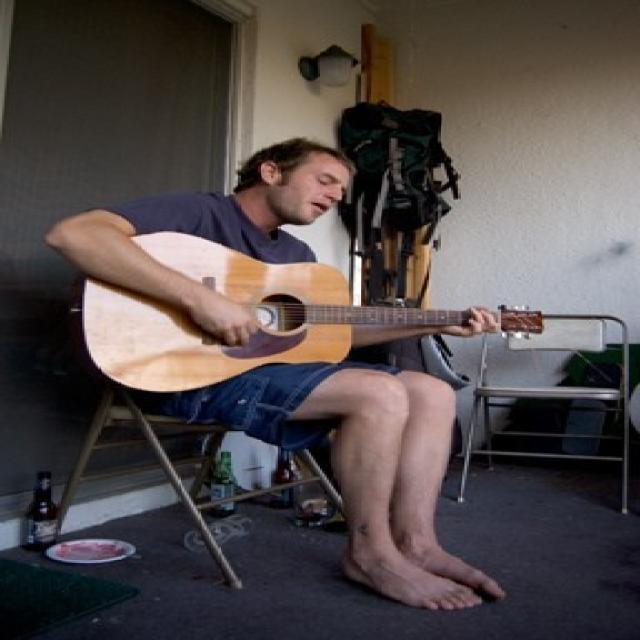guitar: (74, 231, 547, 397)
